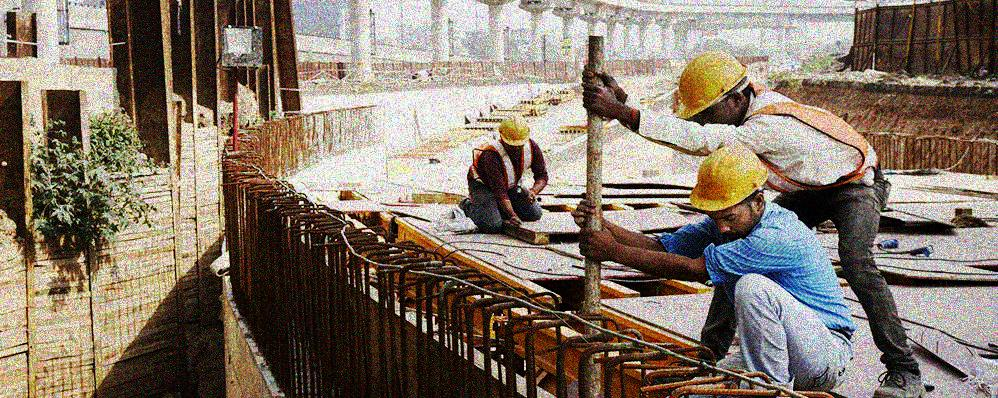helmet: (694, 144, 769, 236), (674, 48, 753, 130), (496, 113, 533, 155)
